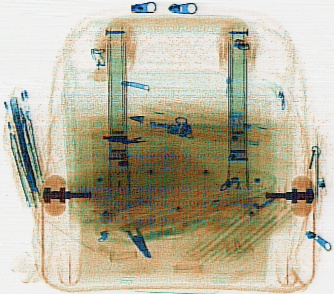scissors: (99, 194, 150, 257)
